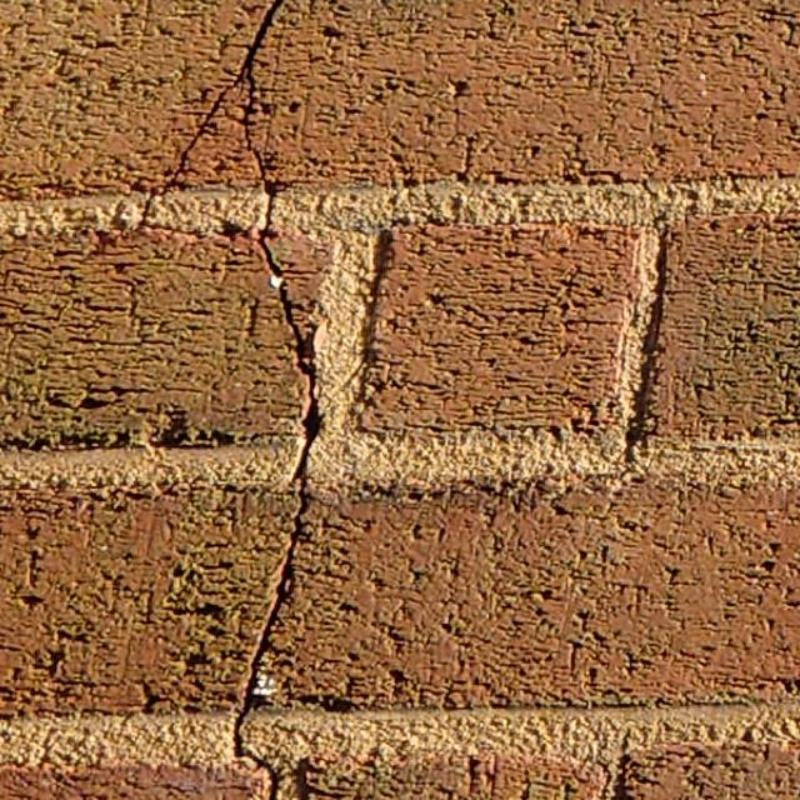pothole: (233, 284, 326, 799), (142, 0, 286, 277)
